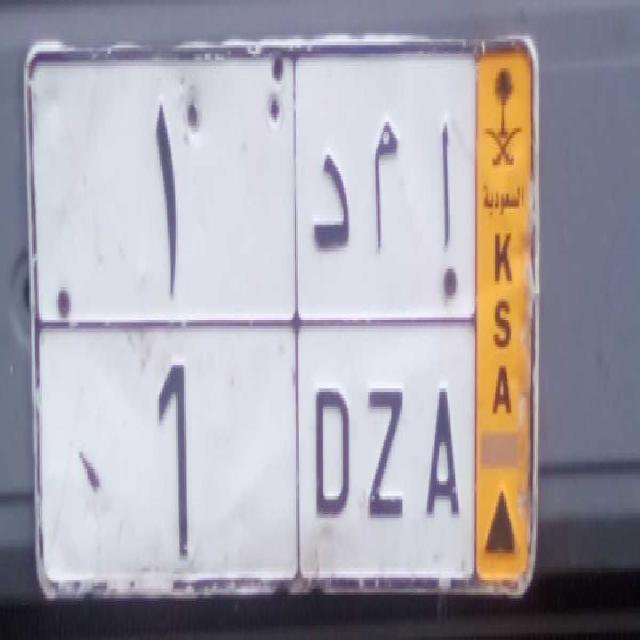license_plate: (36, 316, 476, 590)
